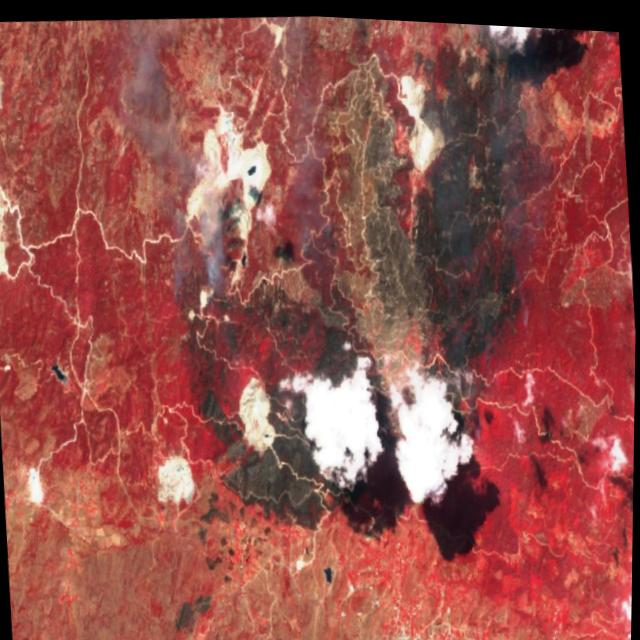fire: (161, 262, 225, 318)
